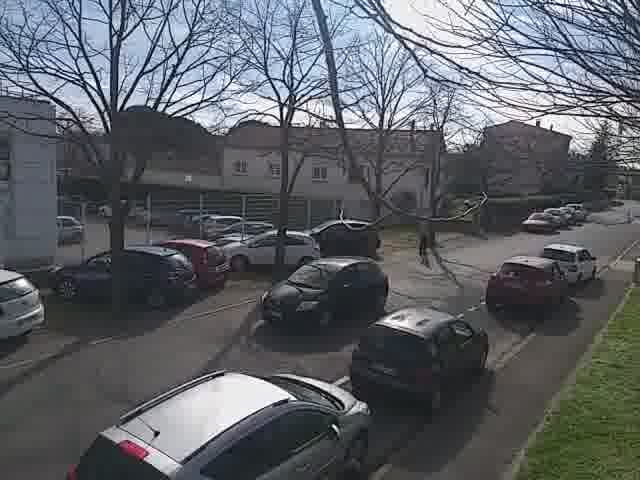persona: (413, 210, 433, 261)
